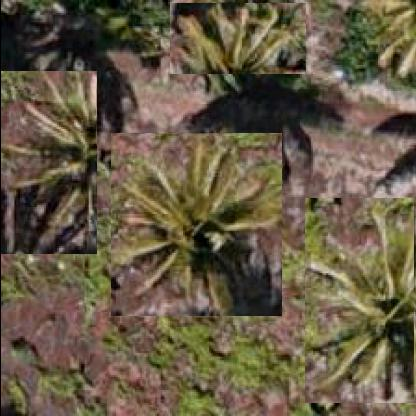coconut tree: (110, 132, 282, 316), (304, 197, 414, 403), (1, 70, 97, 254), (169, 2, 306, 74)
